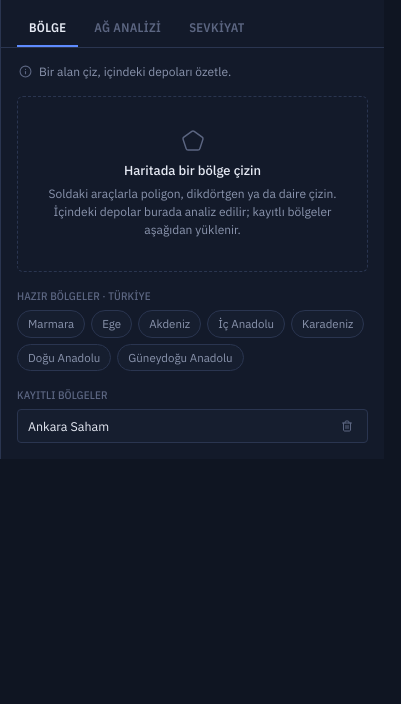
Scenario: AnalysisPanel › loads a saved region back into analysis
Click the button "Ankara Saham".
click(69, 426)  # box [28,417,329,436]
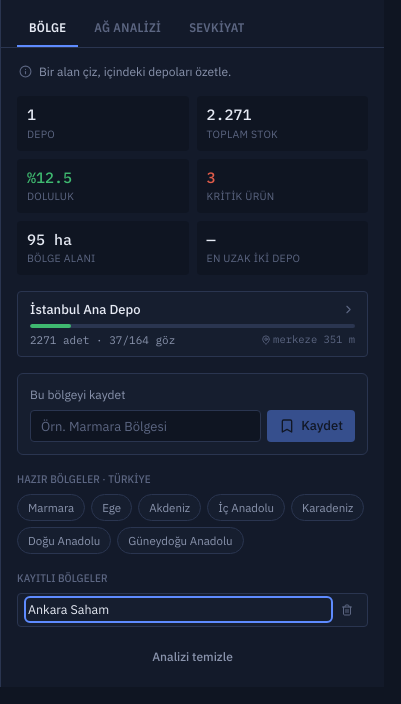
Expected: the text "İstanbul Ana Depo" is shown, [30,300,140,320]
